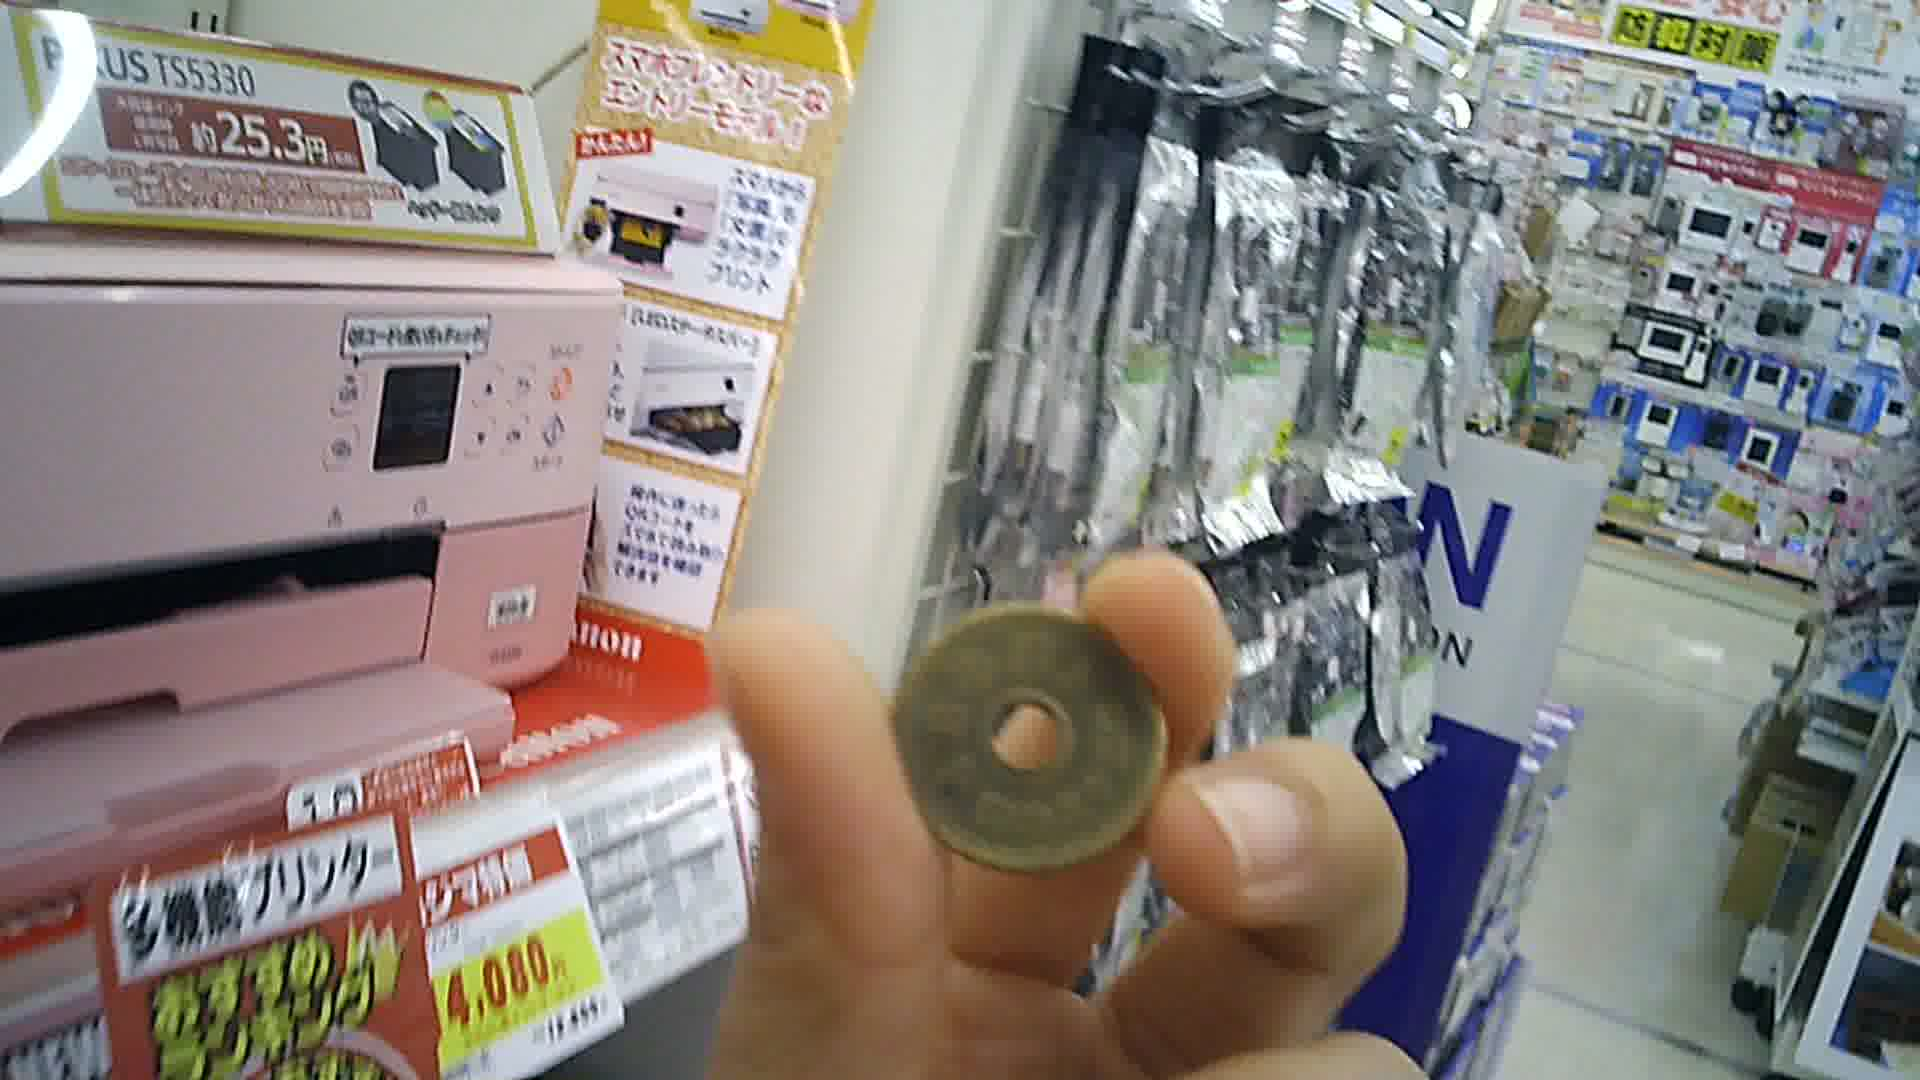5 Yen: (884, 597, 1184, 861)
